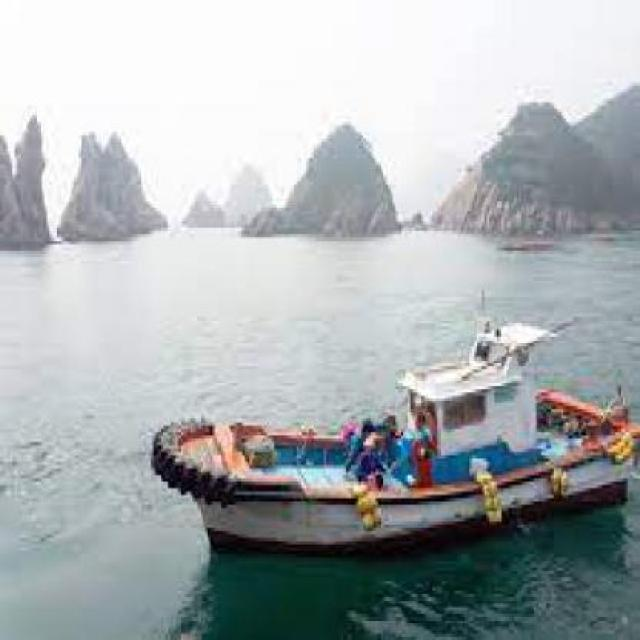fish-b: (137, 287, 639, 569)
